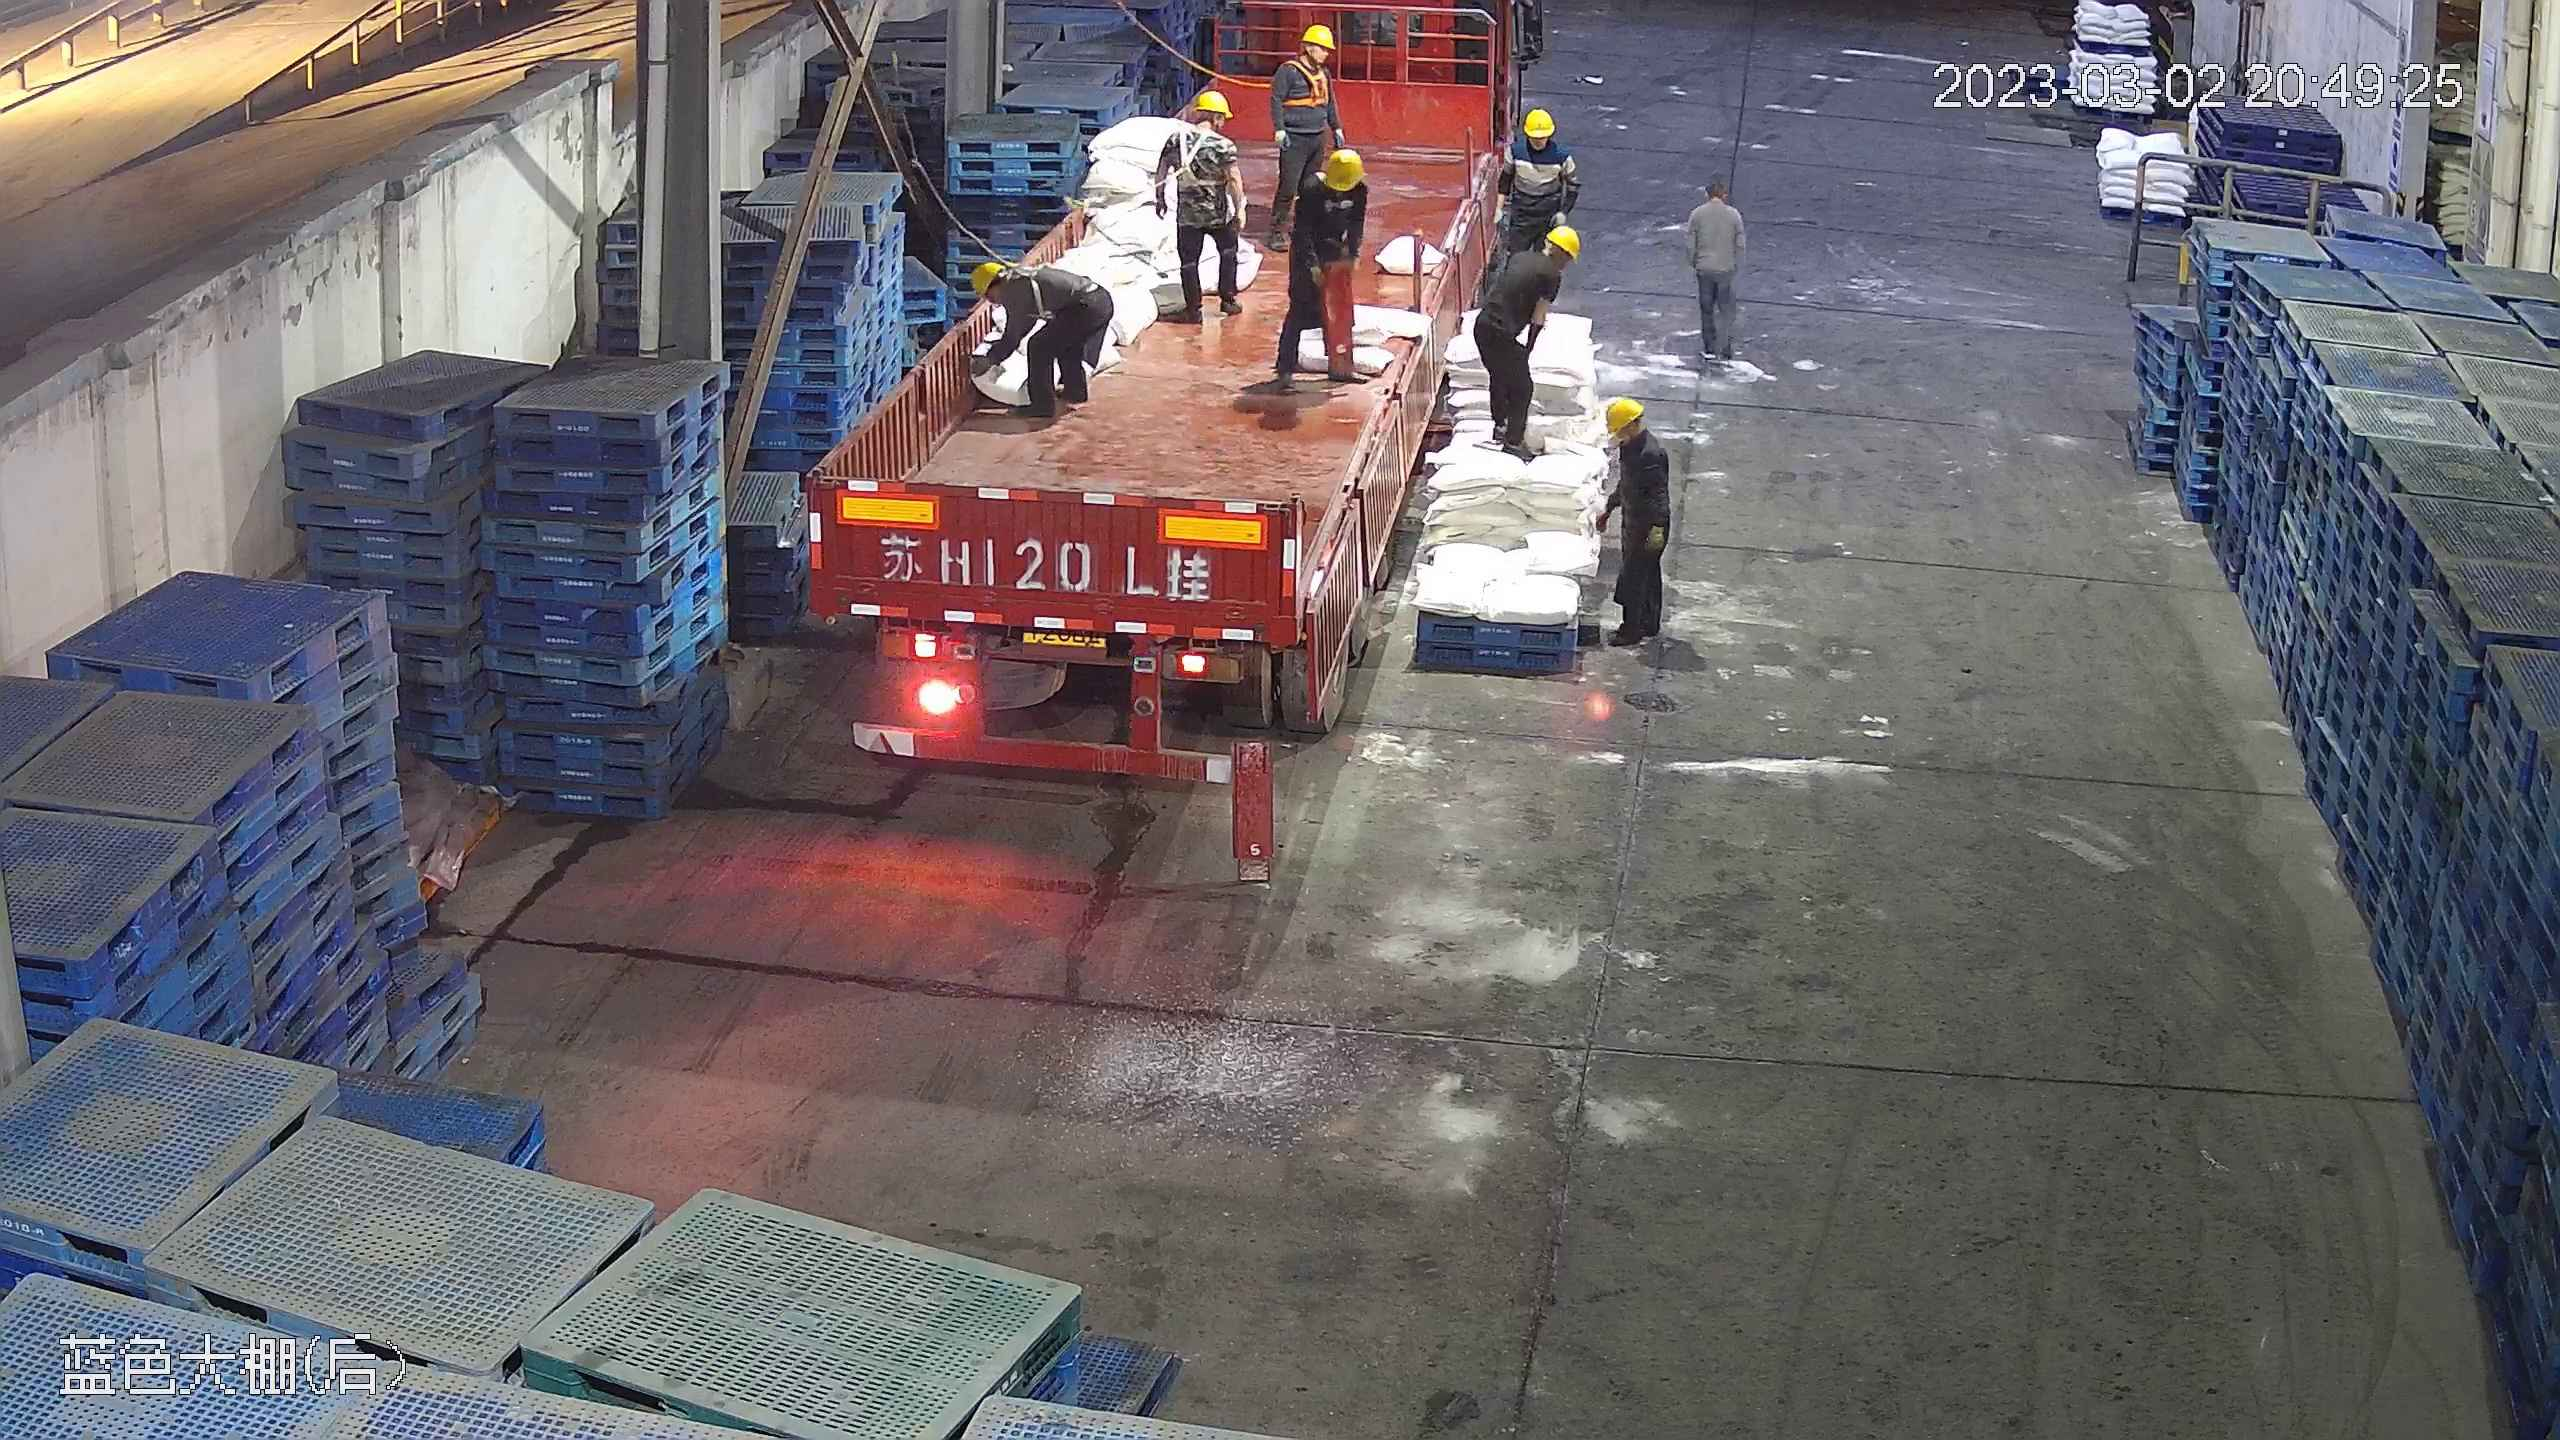belt: (1166, 128, 1226, 189), (1012, 251, 1077, 300), (1278, 57, 1332, 113), (1314, 170, 1353, 210)
head: (1288, 149, 1367, 235), (1601, 396, 1671, 487), (1158, 91, 1237, 170), (1503, 225, 1576, 310), (1503, 106, 1576, 183), (972, 256, 1056, 322), (1274, 23, 1340, 95), (1689, 178, 1745, 236)
helmet: (1319, 146, 1362, 190), (1603, 395, 1647, 431), (971, 258, 1004, 297), (1545, 221, 1581, 257), (1521, 106, 1558, 138), (1190, 90, 1229, 119), (1297, 21, 1335, 46)
people: (1251, 149, 1369, 387), (1472, 219, 1577, 459), (965, 256, 1112, 423), (1156, 88, 1249, 315), (1593, 395, 1675, 647), (1267, 18, 1345, 223), (1685, 176, 1751, 365), (1503, 102, 1581, 253)
truck: (805, 19, 1486, 778)
